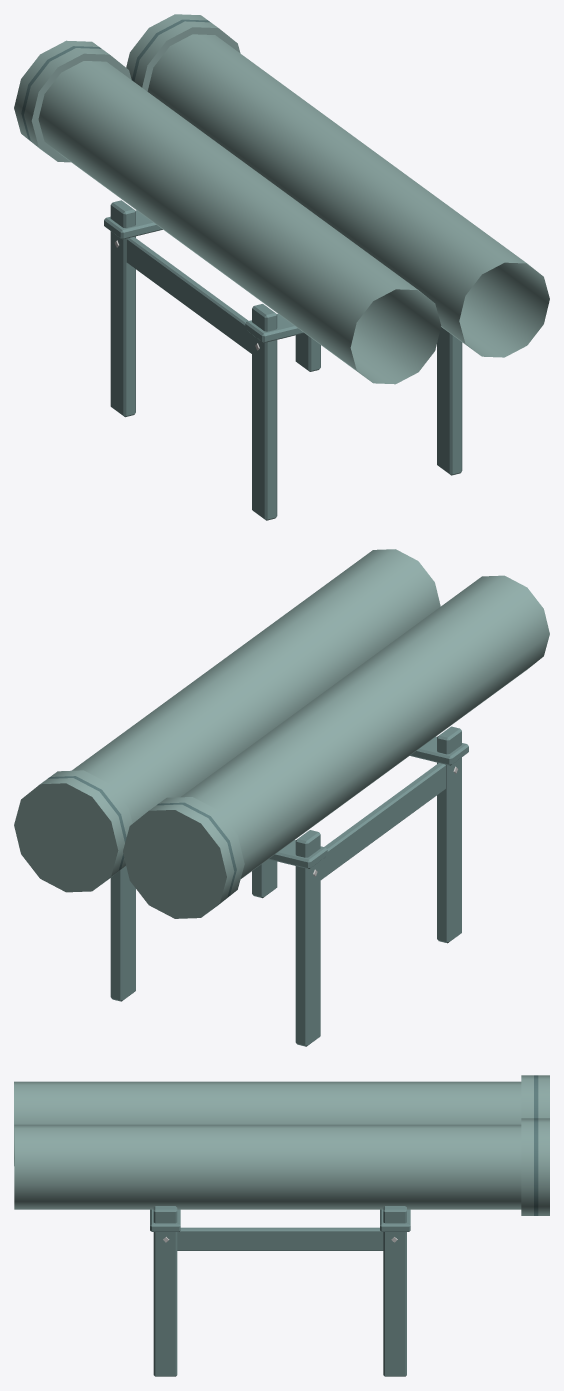
File: SM_Pipe_1.fbx
The picture shows the model from 3 angles, top to bottom: view 1: azimuth 30°, elevation 25°; view 2: azimuth 150°, elevation 25°; view 3: azimuth 270°, elevation 25°; orthographic projection. The views are drawn at different scales.
Visible parts, largest first — view 1: SM_Pipe_1_LOD0; view 2: SM_Pipe_1_LOD0; view 3: SM_Pipe_1_LOD0.
Part boxes in pixels (x1,y1,x2,y2): SM_Pipe_1_LOD0: (14,14,549,520); SM_Pipe_1_LOD0: (14,549,549,1046); SM_Pipe_1_LOD0: (14,1075,549,1376).
Bounding box in the file's own units: 188 × 504 × 246.
1 material, 1 textured.
